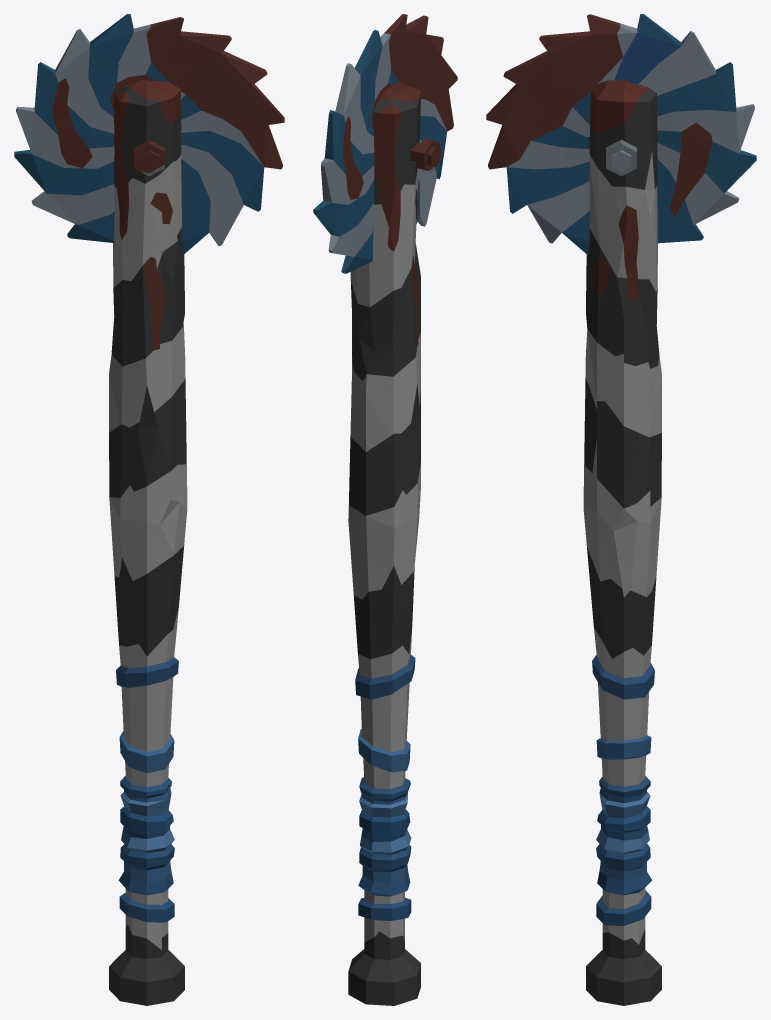
The model's file is SM_Wep_Bat_Saw_01.glb.
The picture shows the model from 3 angles, left to right: view 1: azimuth 90°, elevation 25°; view 2: azimuth 150°, elevation 25°; view 3: azimuth 270°, elevation 25°; orthographic projection.
Visible parts, largest first — view 1: SM_Wep_Bat_Saw_01; view 2: SM_Wep_Bat_Saw_01; view 3: SM_Wep_Bat_Saw_01.
Boxes of the visible parts, box(x1,y1,x2,y2) form: SM_Wep_Bat_Saw_01: box(14, 14, 284, 1005); SM_Wep_Bat_Saw_01: box(313, 14, 457, 1005); SM_Wep_Bat_Saw_01: box(486, 14, 756, 1005).
Bounding box in the file's own units: 12.74 × 117 × 29.5.
Materials: 1 (1 with a texture image).
